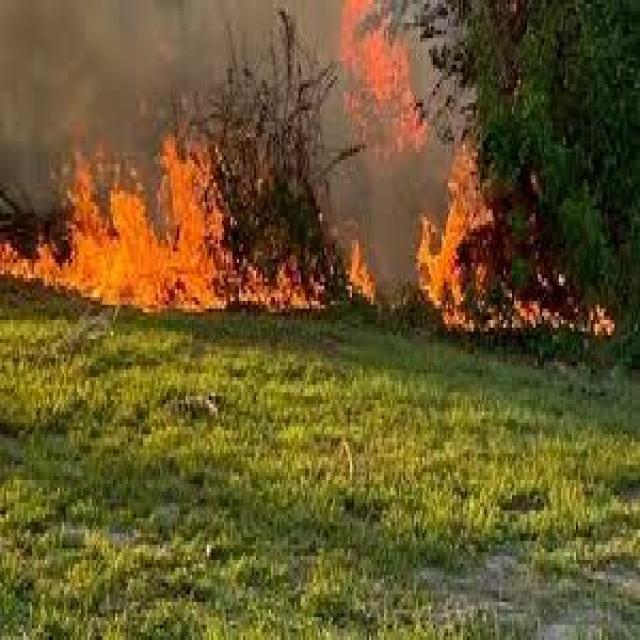fire: (5, 154, 314, 314), (406, 182, 620, 333), (340, 1, 433, 161), (350, 228, 374, 299)
